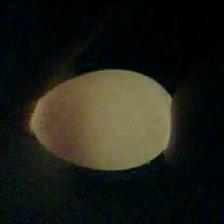infertile: (29, 68, 174, 170)
